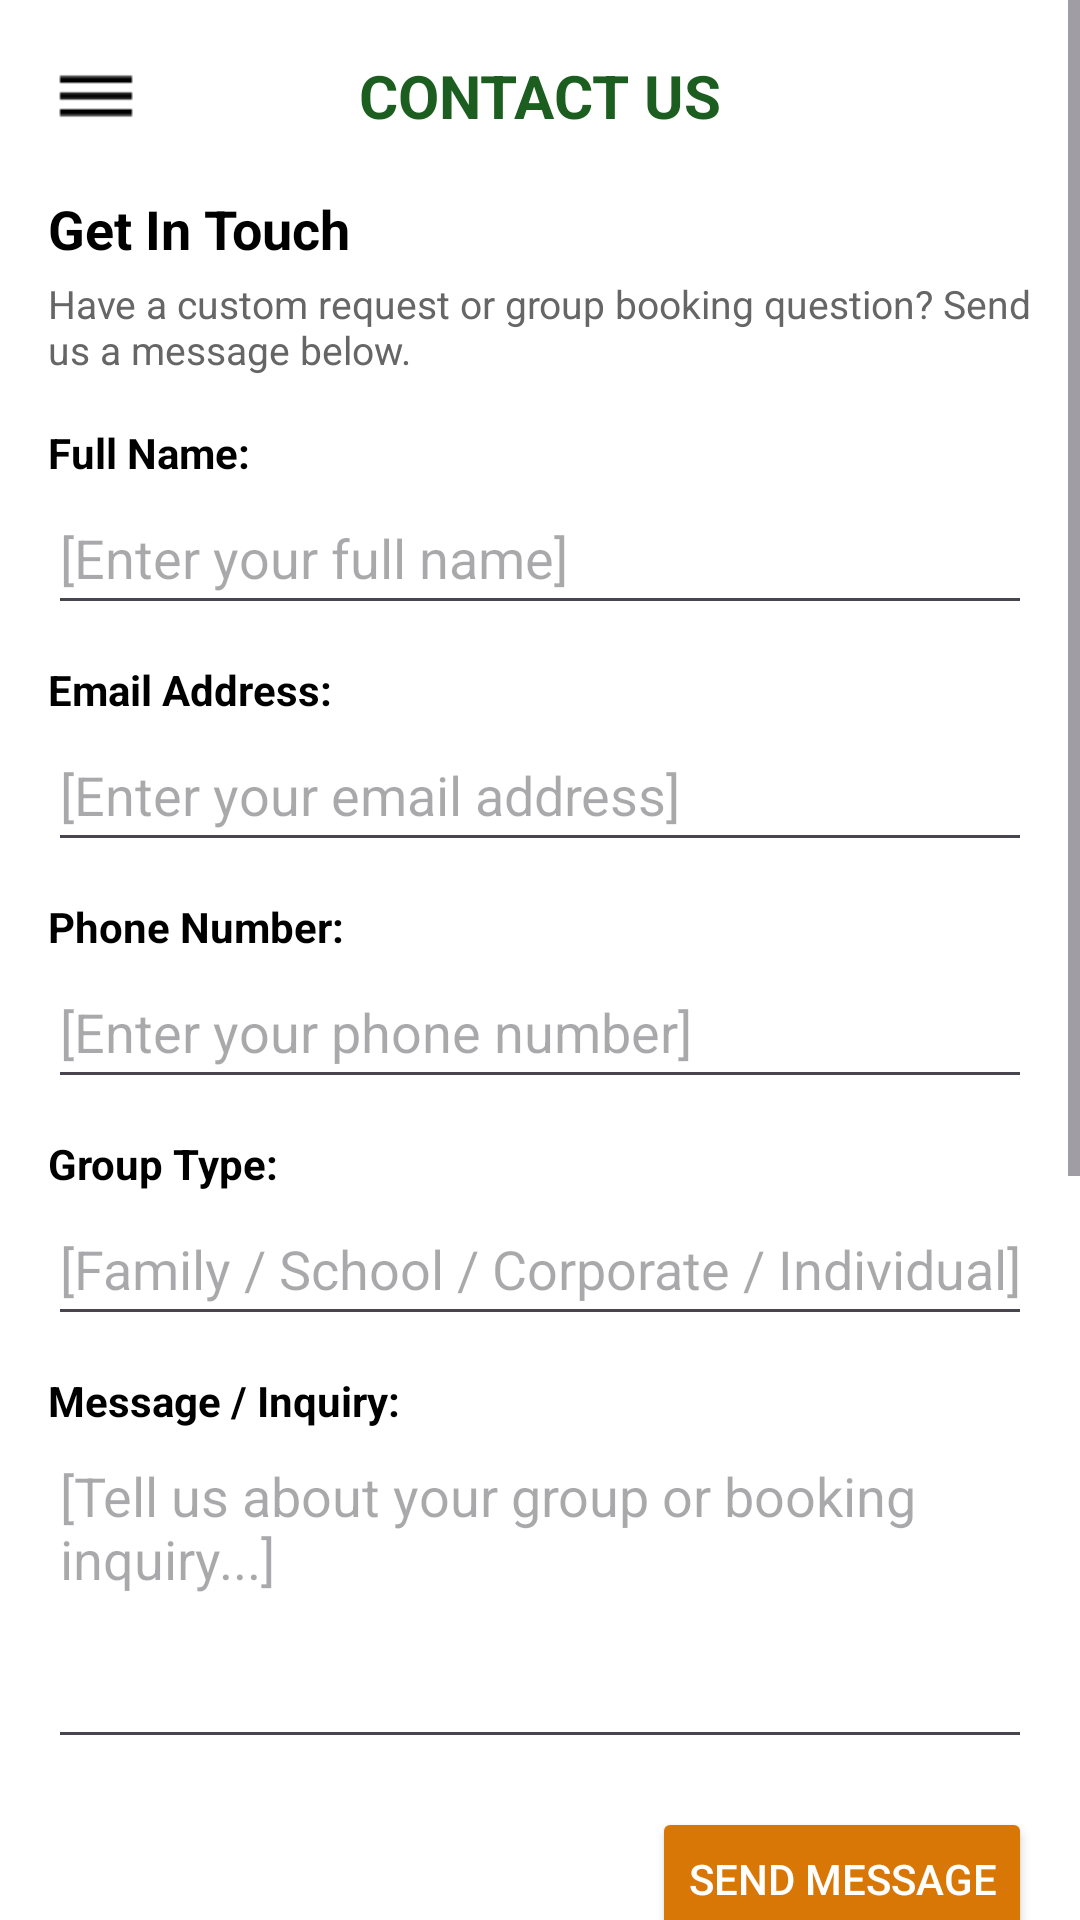

Icon bounding boxes for this 1080×1920 phone screenshot, format (left=x1, top=y1, right=x2, bottom=y2):
Menu: (left=59, top=75, right=133, bottom=117)
